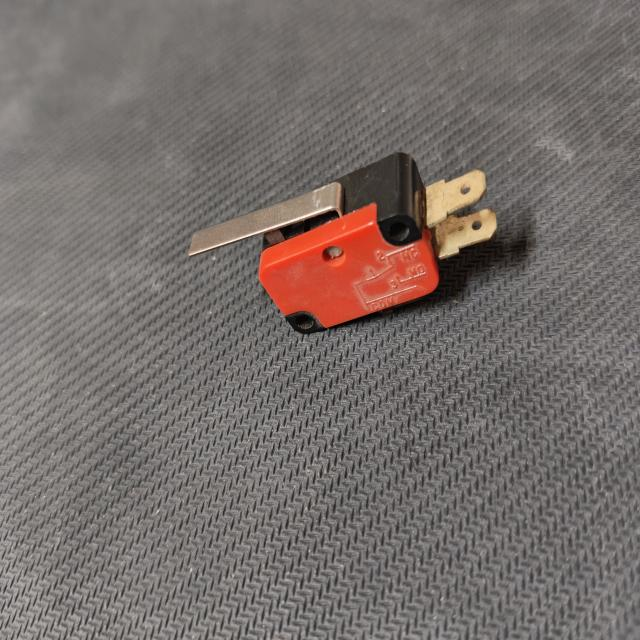switch: (174, 140, 510, 343)
